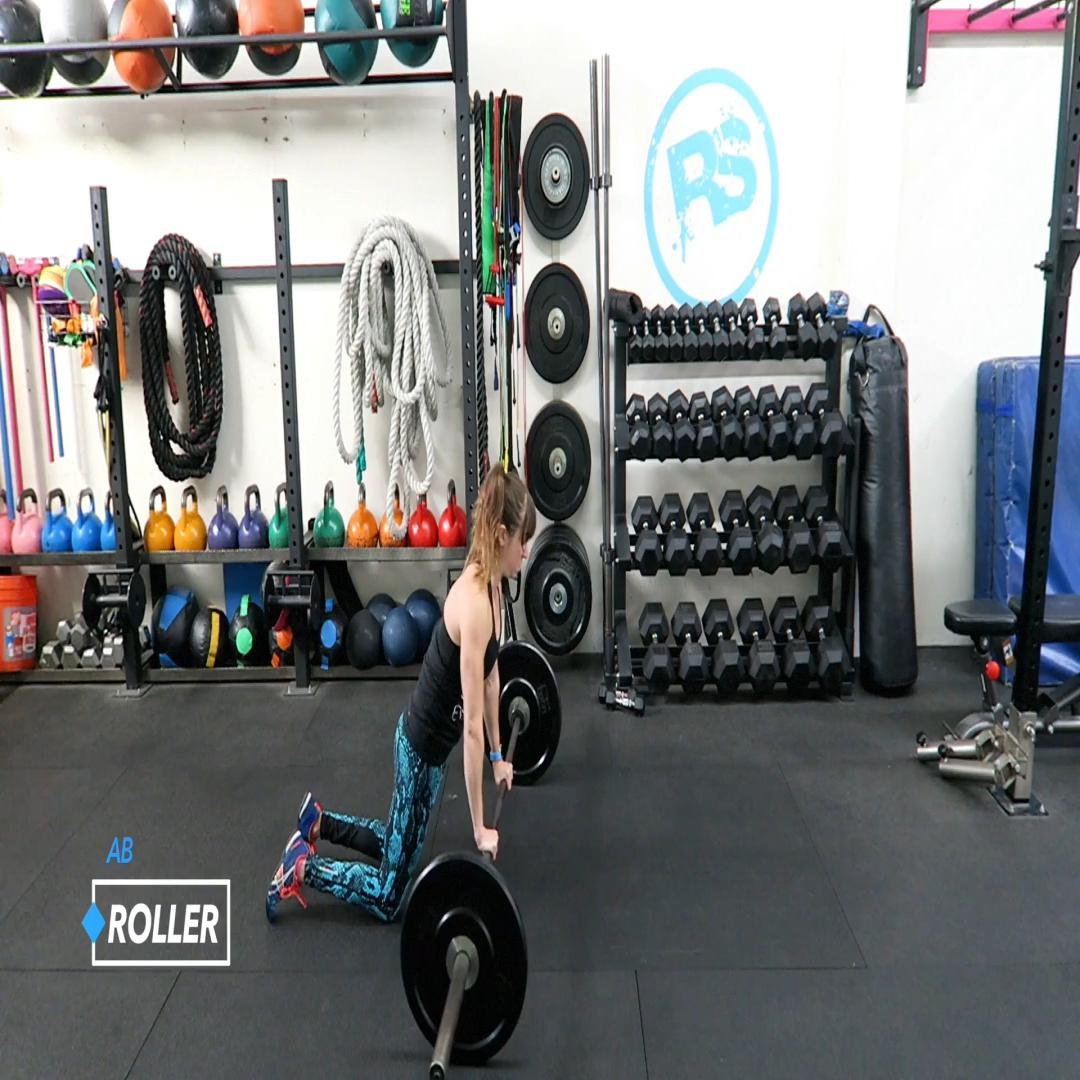Barbell: (400, 858, 527, 1067)
